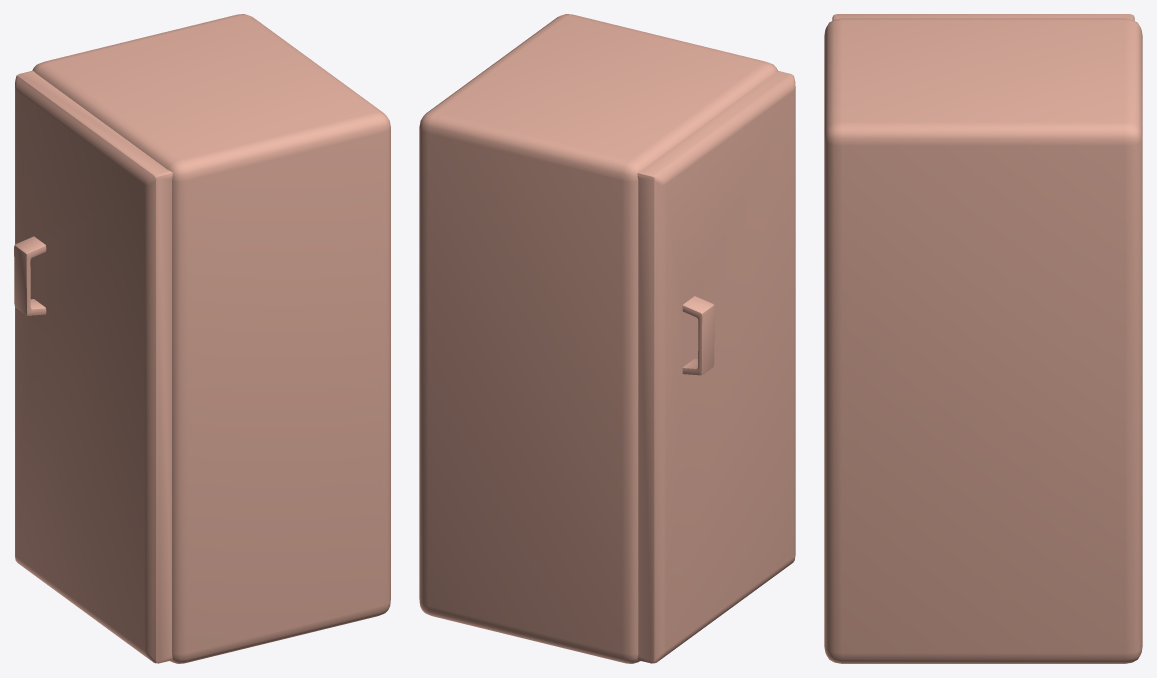
File: bingxiang.fbx
The picture shows the model from 3 angles, left to right: view 1: azimuth 30°, elevation 25°; view 2: azimuth 150°, elevation 25°; view 3: azimuth 270°, elevation 25°; orthographic projection. The views are drawn at different scales.
Visible parts, largest first — view 1: Box033; view 2: Box033; view 3: Box033.
Part boxes in pixels (x1,y1,x2,y2): Box033: [14, 14, 390, 663]; Box033: [419, 14, 795, 663]; Box033: [824, 14, 1142, 663].
Size of the model in its own units: 13.37 by 24.54 by 13.14.
